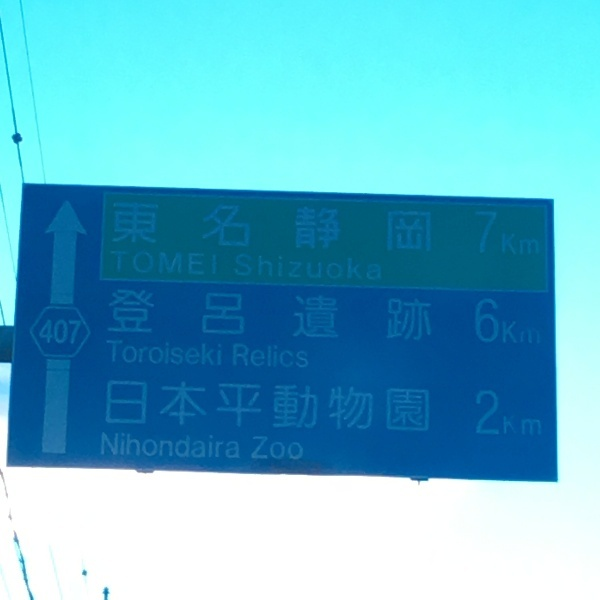text: (417, 289, 433, 347), (417, 200, 433, 257), (113, 289, 128, 347), (129, 289, 144, 347), (145, 289, 160, 347), (161, 289, 176, 347), (177, 289, 192, 347), (193, 289, 208, 347), (209, 289, 224, 347), (225, 289, 240, 347), (241, 289, 256, 347), (257, 289, 272, 347), (273, 289, 288, 347), (289, 289, 304, 347), (305, 289, 320, 347), (321, 289, 336, 347), (337, 289, 352, 347), (353, 289, 368, 347), (369, 289, 384, 347), (385, 289, 400, 347), (401, 289, 416, 347), (113, 200, 128, 257), (129, 200, 144, 257), (145, 200, 160, 257), (161, 200, 176, 257), (177, 200, 192, 257), (193, 200, 208, 257), (209, 200, 224, 257), (225, 200, 240, 257), (241, 200, 256, 257), (257, 200, 272, 257), (273, 200, 288, 257), (289, 200, 304, 257), (305, 200, 320, 257), (321, 200, 336, 257), (337, 200, 352, 257), (353, 200, 368, 257), (369, 200, 384, 257), (385, 200, 400, 257), (401, 200, 416, 257), (113, 380, 128, 434), (129, 380, 144, 434), (145, 380, 160, 434), (161, 380, 176, 434), (177, 380, 192, 434), (193, 380, 208, 434), (209, 380, 224, 434), (225, 380, 240, 434), (241, 380, 256, 434), (257, 380, 272, 434), (273, 380, 288, 434), (289, 380, 304, 434), (305, 380, 320, 434), (321, 380, 336, 434), (337, 380, 352, 434), (353, 380, 368, 434), (369, 380, 384, 434), (385, 380, 400, 434), (401, 380, 416, 434), (417, 380, 431, 434), (481, 298, 496, 345), (497, 298, 512, 345), (513, 298, 528, 345), (481, 389, 496, 436), (497, 389, 512, 436), (513, 389, 528, 436), (481, 212, 496, 257), (497, 212, 512, 257), (513, 212, 528, 257), (529, 389, 541, 436), (529, 298, 540, 345), (241, 254, 256, 284), (257, 254, 272, 284), (273, 254, 288, 284), (289, 254, 304, 284), (305, 254, 320, 284), (321, 254, 336, 284), (337, 254, 352, 284), (353, 254, 368, 284), (529, 212, 539, 257), (225, 432, 241, 460), (369, 254, 383, 284), (113, 432, 128, 460), (129, 432, 144, 460), (145, 432, 160, 460), (161, 432, 176, 460), (177, 432, 192, 460), (193, 432, 208, 460), (209, 432, 224, 460), (289, 437, 305, 462), (113, 341, 128, 367), (129, 341, 144, 367), (145, 341, 160, 367), (161, 341, 176, 367), (177, 341, 192, 367), (193, 341, 208, 367), (49, 319, 64, 344), (65, 319, 80, 344), (113, 251, 128, 276), (129, 251, 144, 276), (145, 251, 160, 276), (161, 251, 176, 276), (177, 251, 192, 276), (193, 251, 208, 276), (257, 437, 272, 462), (273, 437, 288, 462), (209, 341, 223, 367), (241, 344, 256, 368), (257, 344, 272, 368), (273, 344, 288, 368), (289, 344, 304, 368), (102, 432, 112, 460), (107, 380, 112, 434), (209, 251, 217, 276), (476, 298, 480, 345), (476, 212, 480, 257), (233, 344, 240, 368), (477, 389, 480, 436), (107, 341, 112, 367), (236, 254, 240, 284), (110, 289, 112, 347), (253, 437, 256, 462), (305, 344, 308, 368), (81, 319, 82, 344), (111, 251, 112, 276)
